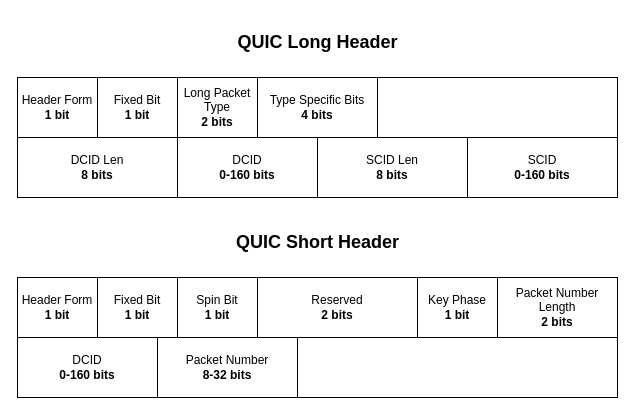
The diagram is 635 pixels wide and 415 high, and some of its shapes have lost their labels. Each missing label, with the centre of its shape:
"Payload 8+ bits" goes at point 457,367.
"Version ID 32 bits" goes at point 497,107.
